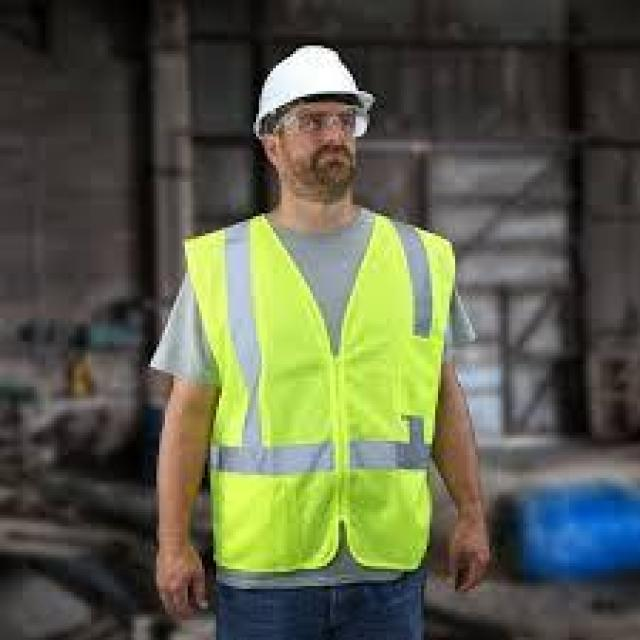vest: (198, 209, 459, 582)
